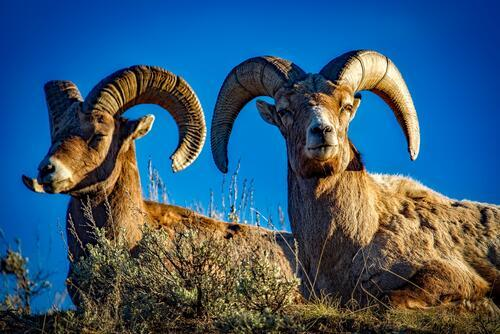sheep: (210, 49, 500, 314), (22, 65, 296, 310)
